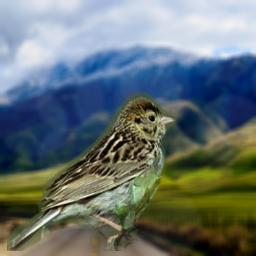Sparrow: (7, 92, 176, 251)
